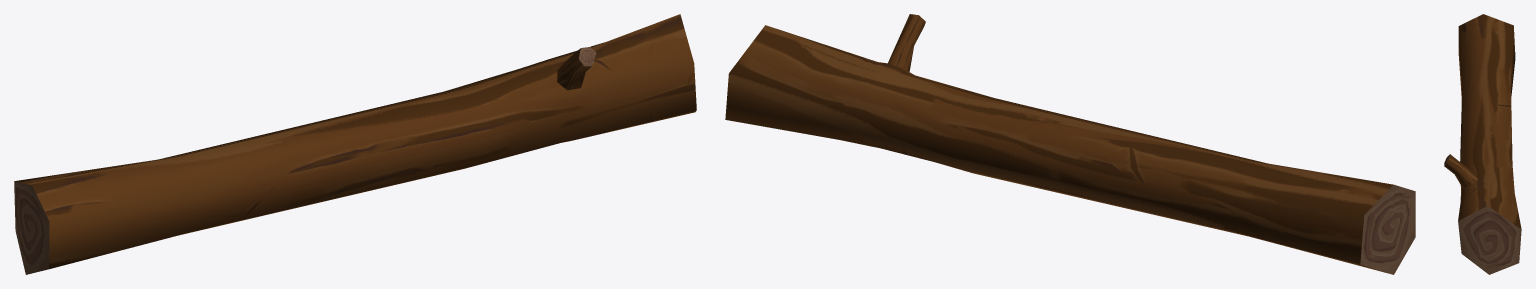
Rendered from SM_PROP_treetrunk_battle_01.fbx.
The picture shows the model from 3 angles, left to right: view 1: azimuth 30°, elevation 25°; view 2: azimuth 150°, elevation 25°; view 3: azimuth 270°, elevation 25°; orthographic projection. The views are drawn at different scales.
Visible parts, largest first — view 1: SM_PROP_treetrunk_battle_01; view 2: SM_PROP_treetrunk_battle_01; view 3: SM_PROP_treetrunk_battle_01.
Part boxes in pixels (bbox=[...]): SM_PROP_treetrunk_battle_01: bbox=[14, 14, 696, 274]; SM_PROP_treetrunk_battle_01: bbox=[725, 14, 1415, 274]; SM_PROP_treetrunk_battle_01: bbox=[1444, 14, 1521, 274].
Size of the model in its own units: 474 by 82.94 by 75.85.
